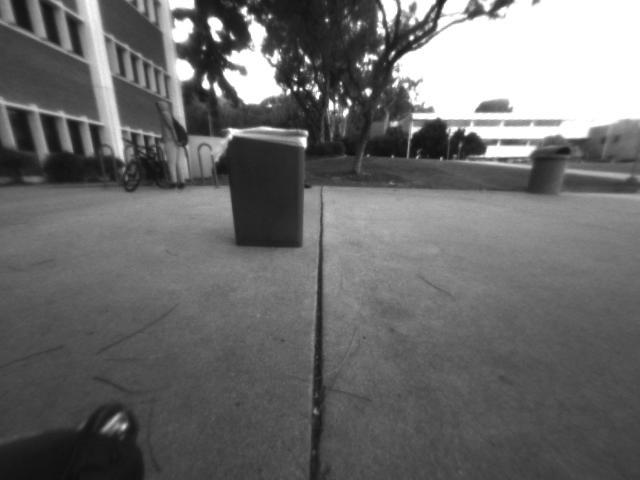trashcan_open: (216, 118, 322, 255)
